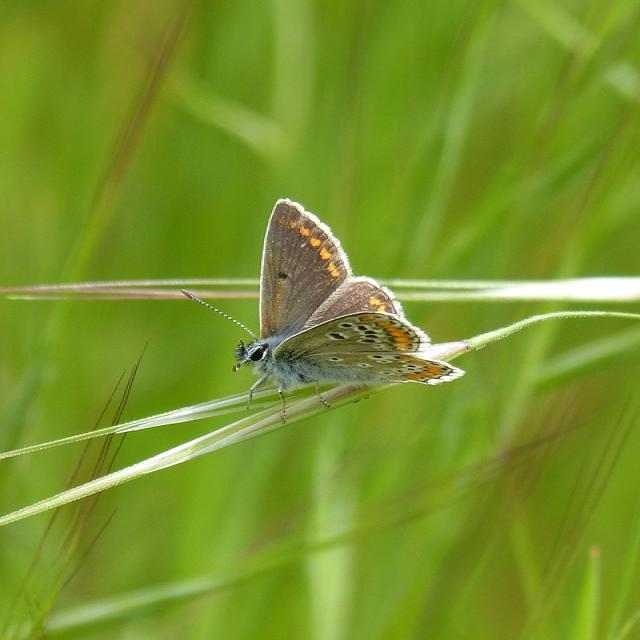butterfly: (235, 199, 463, 421)
